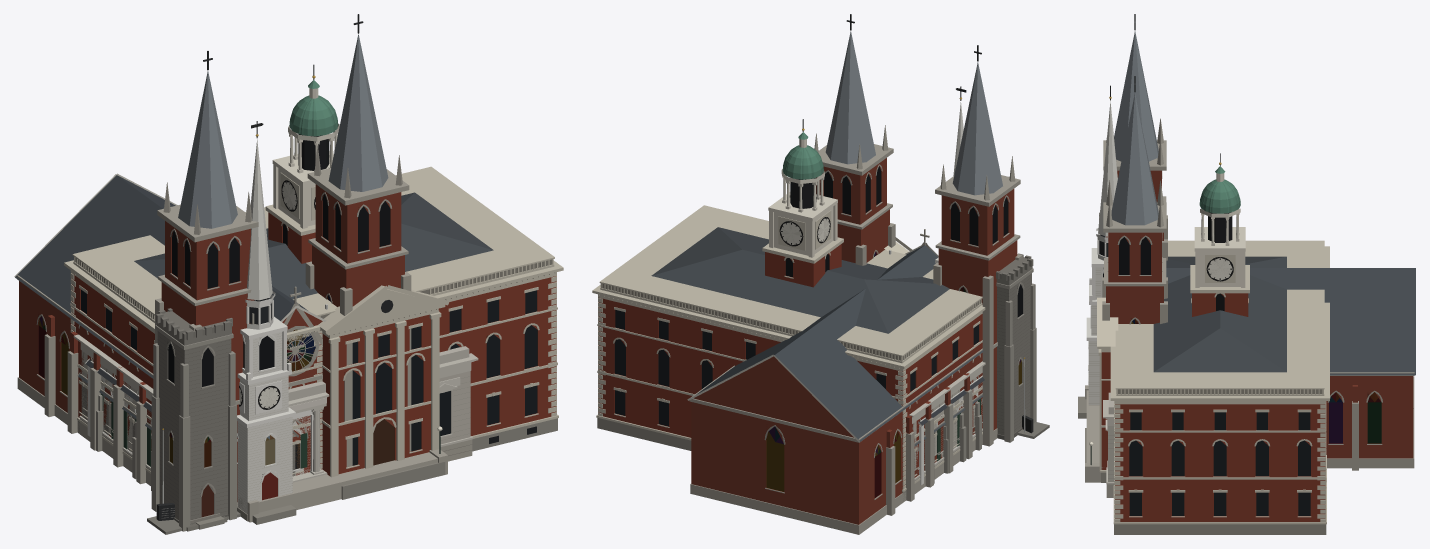
The model's file is civic.glb.
3 views of the same model, side by side, from view 1: azimuth 30°, elevation 25°; view 2: azimuth 150°, elevation 25°; view 3: azimuth 270°, elevation 25° (orthographic). The views are drawn at different scales.
Visible parts, largest first — view 1: ph_0, chb_0, chs_0, chw_0, dlo_0, ph_2, chb_2, ph_1, chs_2, chw_2, sq_memorial, chb_1; view 2: chb_0, ph_0, chs_0, chb_2, ph_2, ph_1, dlo_0, chw_0, chs_2; view 3: ph_0, chb_0, ph_2, chw_0, chb_2, dlo_0, ph_1.
Boxes of the visible parts, x1=… form: ph_0: x1=64, y1=64, x2=563, y2=499; chb_0: x1=14, y1=14, x2=411, y2=507; chs_0: x1=77, y1=308, x2=298, y2=531; chw_0: x1=85, y1=121, x2=319, y2=524; dlo_0: x1=73, y1=304, x2=478, y2=522; ph_2: x1=81, y1=181, x2=537, y2=468; chb_2: x1=38, y1=194, x2=390, y2=467; ph_1: x1=75, y1=96, x2=551, y2=431; chs_2: x1=160, y1=311, x2=231, y2=517; chw_2: x1=239, y1=335, x2=299, y2=500; sq_memorial: x1=147, y1=428, x2=240, y2=534; chb_1: x1=37, y1=191, x2=391, y2=437; chb_0: x1=687, y1=14, x2=1022, y2=534; ph_0: x1=592, y1=119, x2=985, y2=501; chs_0: x1=914, y1=253, x2=1036, y2=483; chb_2: x1=766, y1=166, x2=1008, y2=497; ph_2: x1=614, y1=218, x2=978, y2=426; ph_1: x1=602, y1=145, x2=980, y2=408; dlo_0: x1=889, y1=250, x2=985, y2=493; chw_0: x1=918, y1=86, x2=984, y2=485; chs_2: x1=999, y1=257, x2=1032, y2=384; ph_0: x1=1085, y1=153, x2=1329, y2=534; chb_0: x1=1102, y1=14, x2=1415, y2=470; ph_2: x1=1129, y1=257, x2=1310, y2=515; chw_0: x1=1078, y1=85, x2=1117, y2=418; chb_2: x1=1119, y1=237, x2=1381, y2=443; dlo_0: x1=1085, y1=385, x2=1114, y2=497; ph_1: x1=1118, y1=180, x2=1322, y2=445.
Size of the model in its own units: 44.9 by 48 by 38.5.
